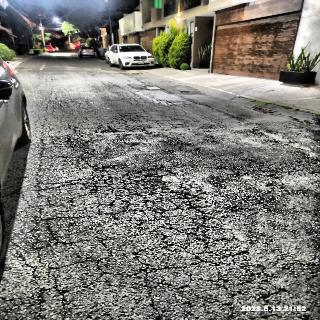alligator-crack: (93, 153, 232, 288)
crack: (26, 240, 147, 312), (216, 120, 320, 172), (21, 123, 68, 215), (240, 248, 290, 320)
